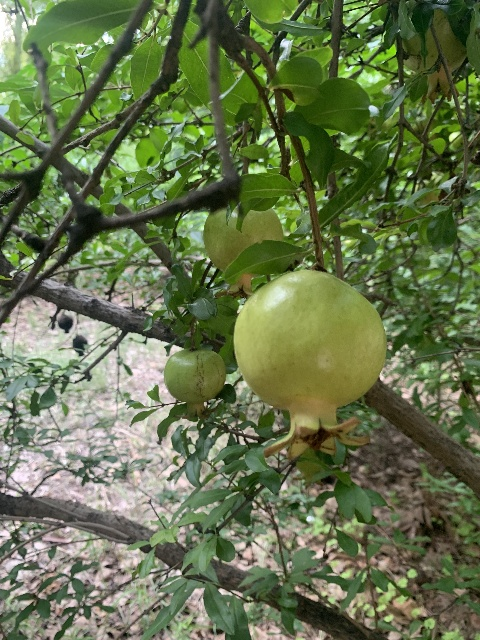mid-growth: (232, 269, 386, 462), (203, 205, 286, 299), (403, 7, 468, 105), (164, 346, 226, 421)
